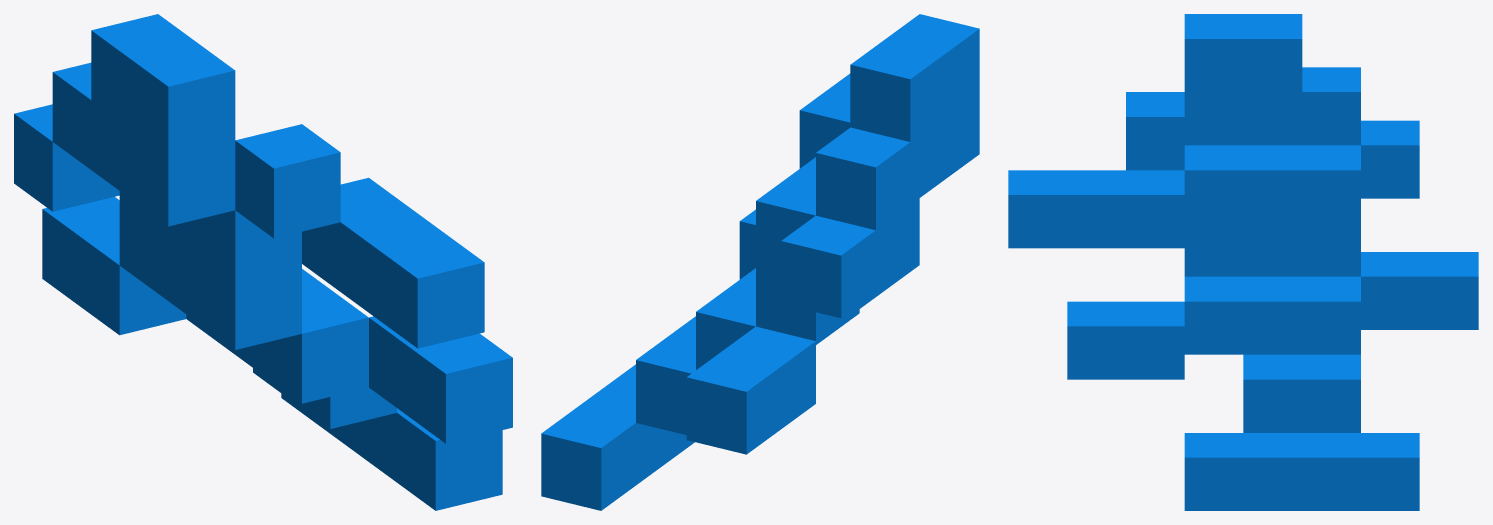
Rendered from VoxelEffects_SpaceTrash_04.FBX.
3 views of the same model, side by side, from view 1: azimuth 30°, elevation 25°; view 2: azimuth 150°, elevation 25°; view 3: azimuth 270°, elevation 25° (orthographic). The views are drawn at different scales.
Visible parts, largest first — view 1: VoxelEffects_SpaceTrash_04; view 2: VoxelEffects_SpaceTrash_04; view 3: VoxelEffects_SpaceTrash_04.
Part boxes in pixels (bbox=[...]): VoxelEffects_SpaceTrash_04: bbox=[14, 14, 512, 510]; VoxelEffects_SpaceTrash_04: bbox=[541, 14, 979, 510]; VoxelEffects_SpaceTrash_04: bbox=[1008, 14, 1478, 510].
Size of the model in its own units: 50 by 70 by 80.
